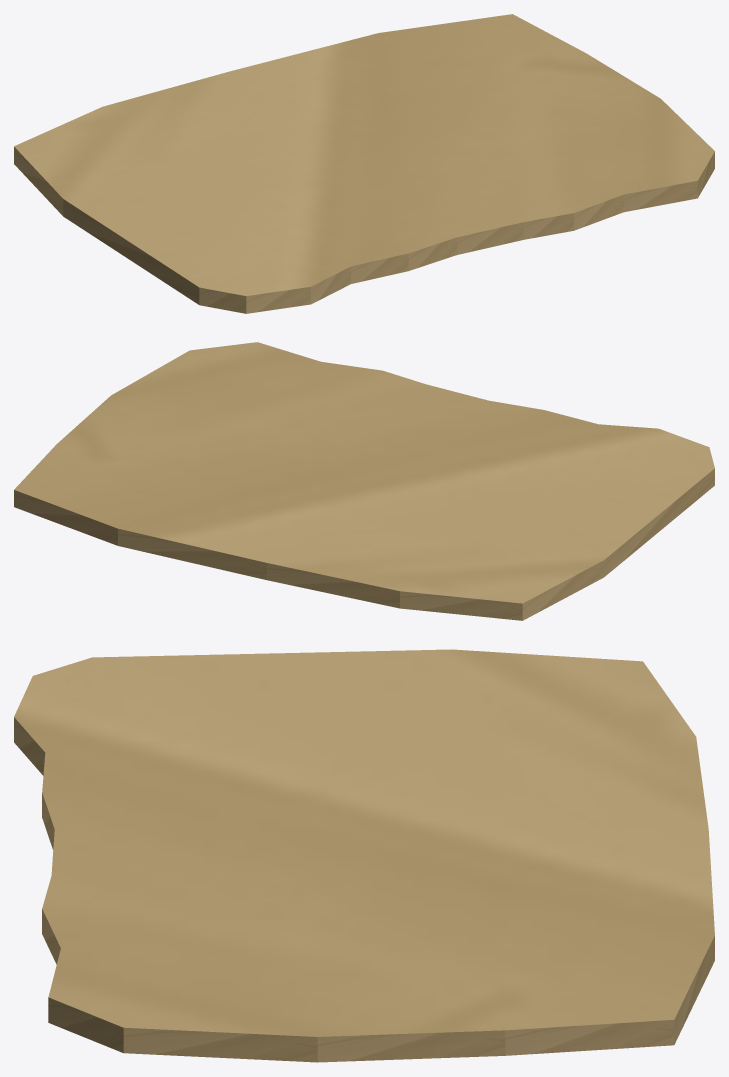
Rendered from Preview_Terrain.glb.
3 renders of one model, top to bottom at view 1: azimuth 30°, elevation 25°; view 2: azimuth 150°, elevation 25°; view 3: azimuth 270°, elevation 25°, orthographic. The views are drawn at different scales.
Parts seen in each view (by area): view 1: Preview_Terrain; view 2: Preview_Terrain; view 3: Preview_Terrain.
Boxes of the visible parts, x1,y1,x2,y2 form: Preview_Terrain: (14, 14, 714, 313); Preview_Terrain: (14, 342, 714, 620); Preview_Terrain: (14, 649, 714, 1062).
Bounding box in the file's own units: 29.3 × 0.9 × 22.4.
1 material, 1 textured.
